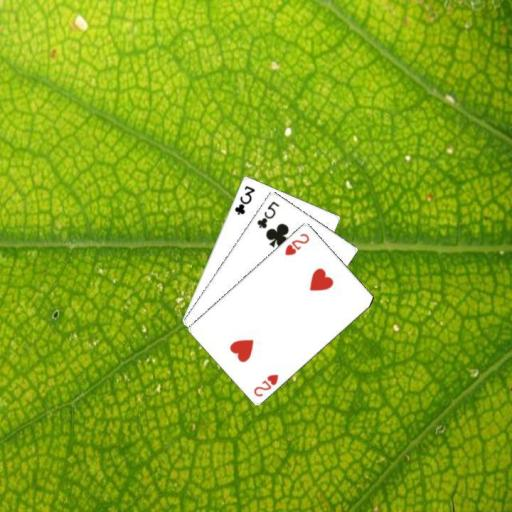2H: (250, 371, 280, 398), (282, 230, 311, 257)
3C: (231, 182, 257, 216)
5C: (253, 198, 281, 230)
